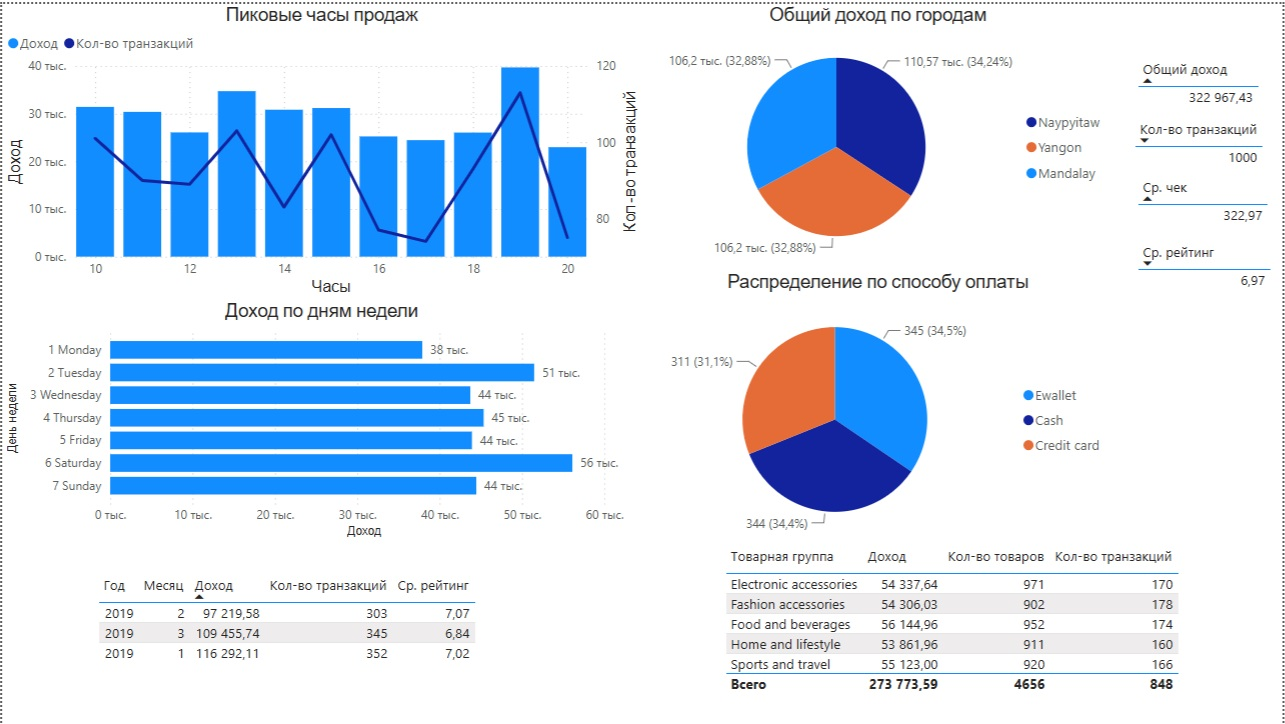

This screenshot's page, from the dashboard's own definition file:
{"tool":"powerbi","page":{"name":"Страница 1","canvas":[1280,720],"ordinal":0},"visuals":[{"type":"tableEx","fields":{"Values":["Запрос1.year","Запрос1.month","Запрос1.monthly_revenue","Запрос1.transactions_count","Запрос1.avg_rating"]},"box":[91.3,566,413.7,112.8],"z":0},{"type":"pieChart","title":"Общий доход по городам","fields":{"Category":["Total_city.city"],"Y":["Sum(Total_city.revenue)"]},"box":[640,0,471.7,267.5],"z":1000},{"type":"pieChart","title":"Распределение по способу оплаты","fields":{"Category":["Запрос1.payment_method"],"Y":["Sum(Запрос1.transaction_count)"]},"box":[640,267.5,471.7,277.2],"z":2000},{"type":"lineClusteredColumnComboChart","title":"Пиковые часы продаж","fields":{"Category":["Запрос2.hour"],"Y":["Sum(Запрос2.revenue)"],"Y2":["Sum(Запрос2.transactions)"]},"box":[0,0,640,295.7],"z":3000},{"type":"clusteredBarChart","title":"Доход по дням недели","fields":{"Category":["Day_of_week.day_of_week"],"Y":["Sum(Day_of_week.daily_revenue)"]},"box":[0,295.7,640,242.2],"z":3001},{"type":"tableEx","fields":{"Values":["Sum(Total_revenue.total_revenue)"]},"box":[1130.1,50.3,143.3,84.2],"z":3002},{"type":"tableEx","fields":{"Values":["Sum(Total_transactions.total_transactions)"]},"box":[1126.6,110.3,143.3,68.1],"z":3003},{"type":"tableEx","fields":{"Values":["Sum(avg_receipts.avg_basket_value)"]},"box":[1130.1,167.6,149.6,69],"z":3004},{"type":"tableEx","fields":{"Values":["Sum(avg_rating.avg_rating)"]},"box":[1130.1,232.9,149.6,62.7],"z":3005},{"type":"tableEx","fields":{"Values":["top_5_goods.product_line","Sum(top_5_goods.revenue)","Sum(top_5_goods.total_units_sold)","Sum(top_5_goods.transactions_count)"]},"box":[718.2,537.3,480,169.3],"z":3006}]}

Visuals, with their boxes in screenshot pixels (x1, y1, x2, y2), scaled from the page's 1280x720 canvas onto the 1285x724 screenshot:
tableEx - Запрос1.year x Запрос1.month: {"left": 92, "top": 569, "right": 507, "bottom": 683}
"Общий доход по городам" pieChart: {"left": 642, "top": 0, "right": 1116, "bottom": 269}
"Распределение по способу оплаты" pieChart: {"left": 642, "top": 269, "right": 1116, "bottom": 548}
"Пиковые часы продаж" lineClusteredColumnComboChart: {"left": 0, "top": 0, "right": 642, "bottom": 297}
"Доход по дням недели" clusteredBarChart: {"left": 0, "top": 297, "right": 642, "bottom": 541}
tableEx - Sum(Total_revenue.total_revenue): {"left": 1135, "top": 51, "right": 1278, "bottom": 135}
tableEx - Sum(Total_transactions.total_transactions): {"left": 1131, "top": 111, "right": 1275, "bottom": 179}
tableEx - Sum(avg_receipts.avg_basket_value): {"left": 1135, "top": 169, "right": 1284, "bottom": 238}
tableEx - Sum(avg_rating.avg_rating): {"left": 1135, "top": 234, "right": 1284, "bottom": 297}
tableEx - top_5_goods.product_line x Sum(top_5_goods.revenue): {"left": 721, "top": 540, "right": 1203, "bottom": 711}
